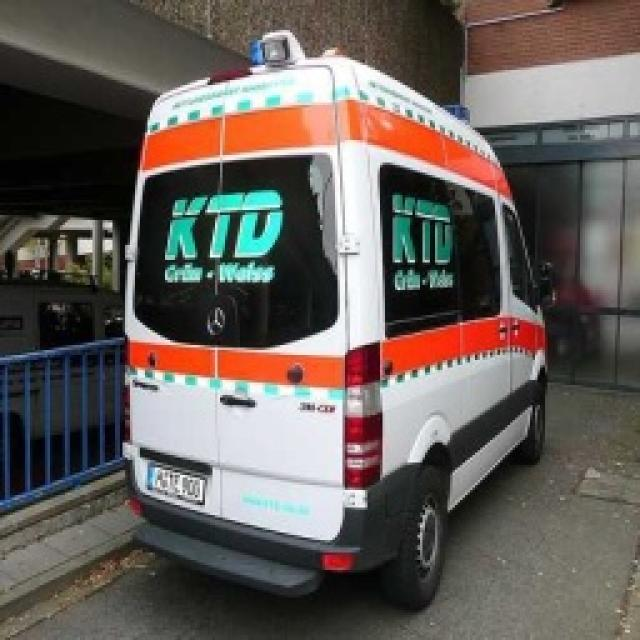ambulance: (122, 40, 548, 612), (0, 335, 128, 510)
